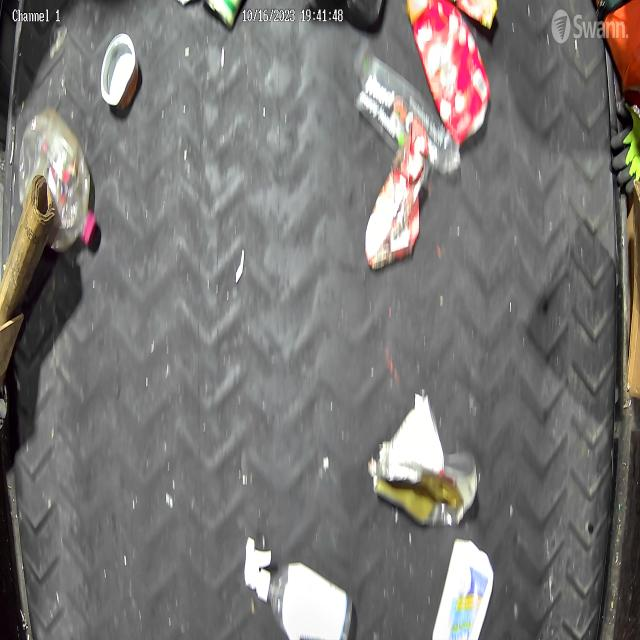can: (100, 34, 140, 112)
plastic_bottle: (17, 107, 98, 254)
